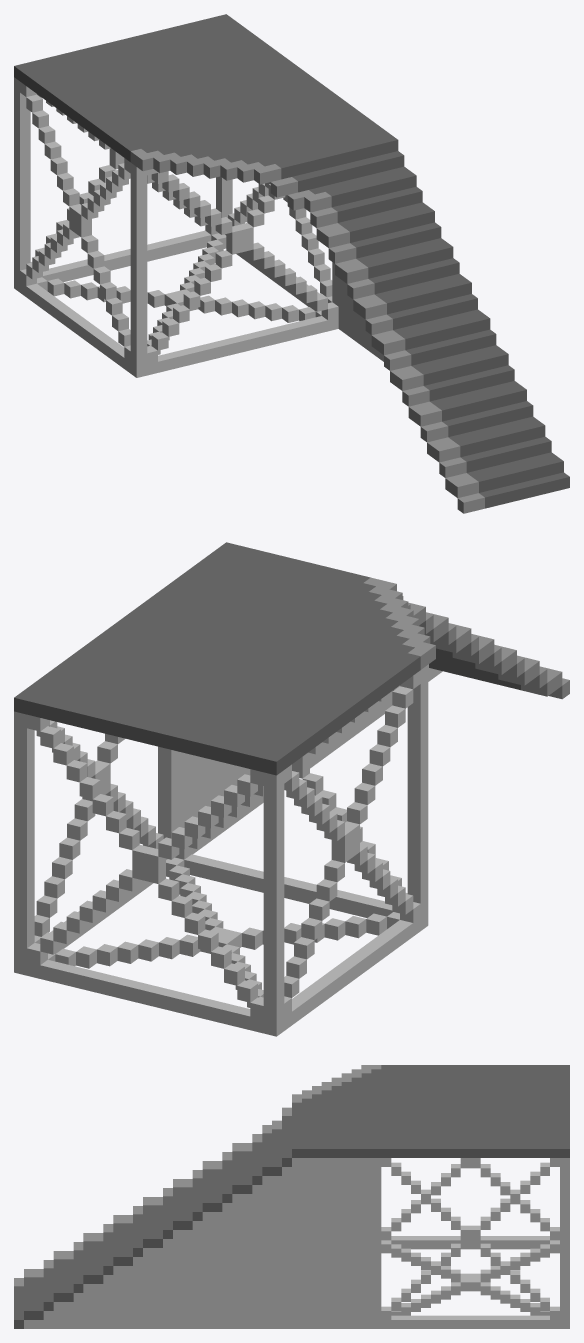
Rendered from cube_ramp_side.obj.
3 renders of one model, top to bottom at view 1: azimuth 30°, elevation 25°; view 2: azimuth 150°, elevation 25°; view 3: azimuth 270°, elevation 25°, orthographic. The views are drawn at different scales.
Size of the model in its own units: 20 by 20 by 56.
